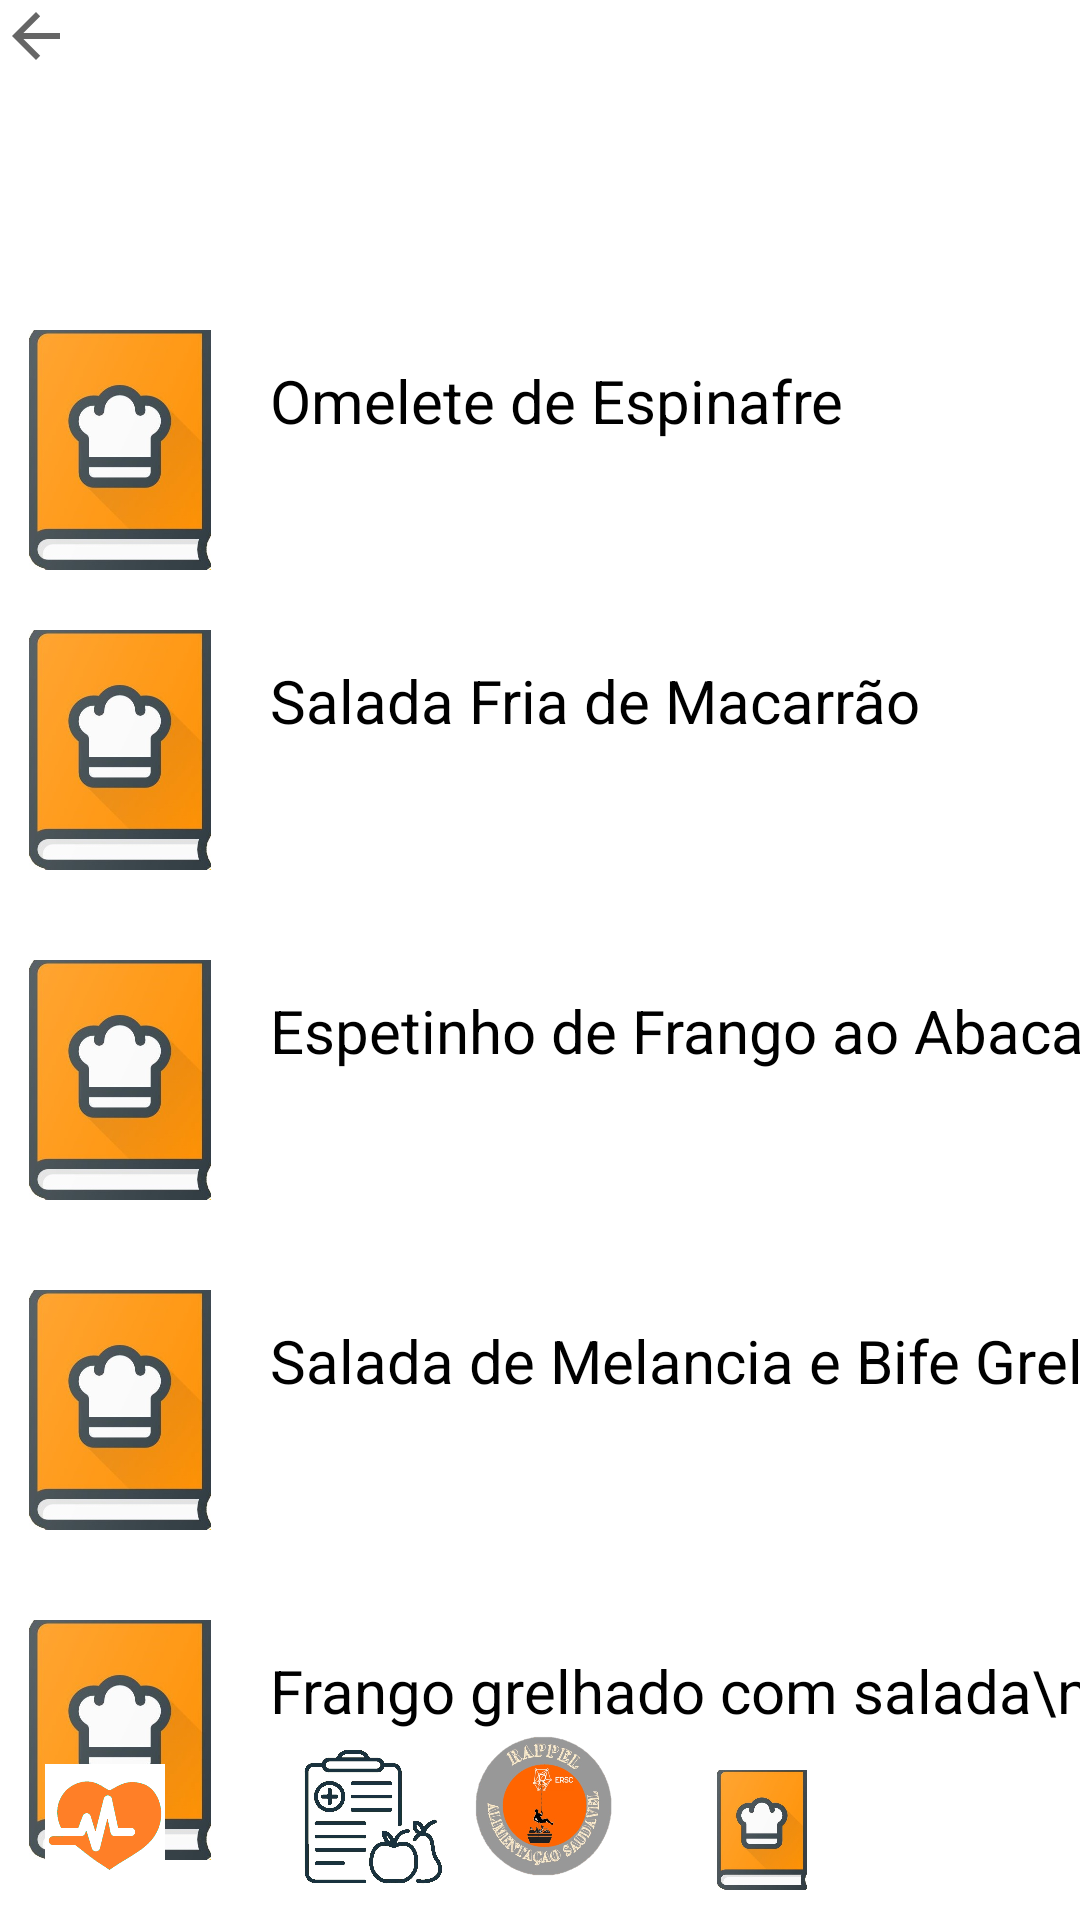

Icons on this 1080×1920 Android screen, each with the point to tap as point (x, y):
plano: point (373, 1816)
planodesaude: point (105, 1825)
